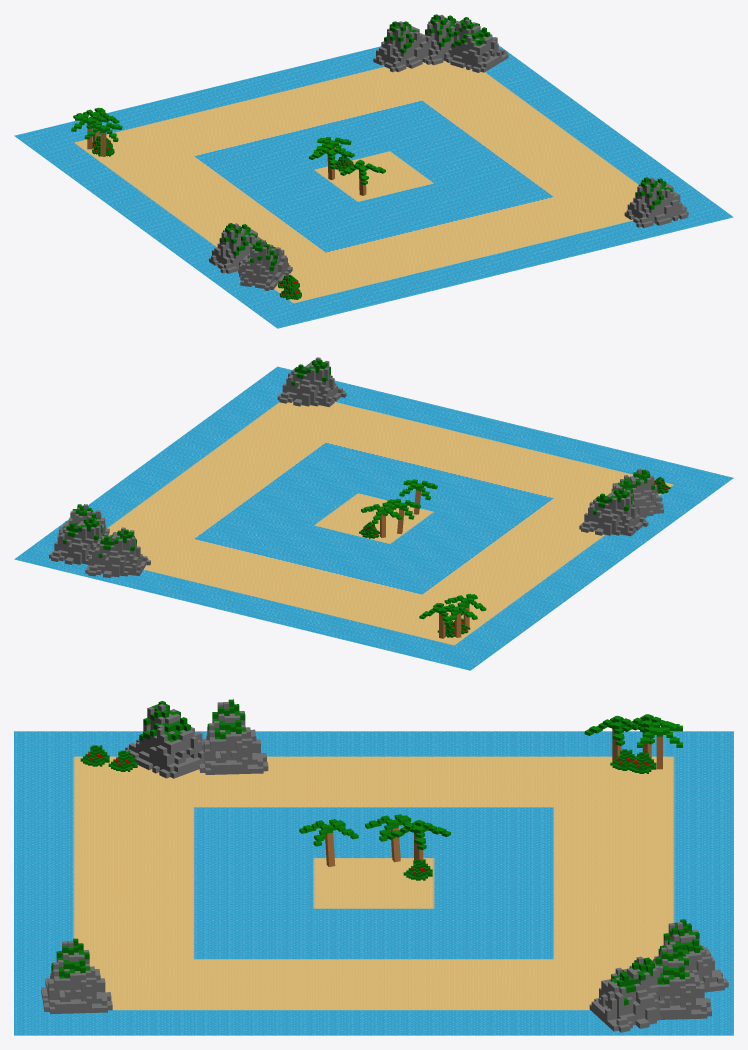
File: Map17.fbx
3 renders of one model, top to bottom at view 1: azimuth 30°, elevation 25°; view 2: azimuth 150°, elevation 25°; view 3: azimuth 270°, elevation 25°, orthographic. The views are drawn at different scales.
Parts seen in each view (by area): view 1: pPlane1, BigRock5, BigRock3, BigRock4, BigRock, BigRock1, BigRock2, Pale2, Pale5, Pale4; view 2: pPlane1, BigRock5, BigRock1, BigRock4, BigRock2, BigRock, BigRock3, Pale3, Pale5; view 3: pPlane1, BigRock, BigRock3, BigRock5, BigRock1, BigRock2, BigRock4, Pale5, Pale3, Pale, Pale2, Pale4 (+1 smaller).
Part boxes in pixels (<box>): pPlane1: <box>14,45,733,328</box>; BigRock5: <box>624,177,688,227</box>; BigRock3: <box>443,17,508,72</box>; BigRock4: <box>373,21,430,72</box>; BigRock: <box>238,239,292,290</box>; BigRock1: <box>209,223,262,273</box>; BigRock2: <box>424,14,458,65</box>; Pale2: <box>84,122,122,156</box>; Pale5: <box>340,159,385,195</box>; Pale4: <box>309,144,354,179</box>; pPlane1: <box>14,366,733,670</box>; BigRock5: <box>277,357,346,407</box>; BigRock1: <box>579,486,648,536</box>; BigRock4: <box>85,527,150,577</box>; BigRock2: <box>49,515,104,564</box>; BigRock: <box>611,468,663,517</box>; BigRock3: <box>57,504,109,536</box>; Pale3: <box>361,502,402,537</box>; Pale5: <box>399,479,437,514</box>; pPlane1: <box>14,731,733,1035</box>; BigRock: <box>125,701,204,778</box>; BigRock3: <box>589,956,671,1032</box>; BigRock5: <box>41,938,112,1013</box>; BigRock1: <box>199,699,268,774</box>; BigRock2: <box>653,944,711,1019</box>; BigRock4: <box>653,919,728,992</box>; Pale5: <box>299,819,358,866</box>; Pale3: <box>386,820,450,860</box>; Pale: <box>637,722,682,769</box>; Pale2: <box>584,716,645,762</box>; Pale4: <box>365,814,424,862</box>.
Size of the model in its own units: 60 by 4.86 by 60.
